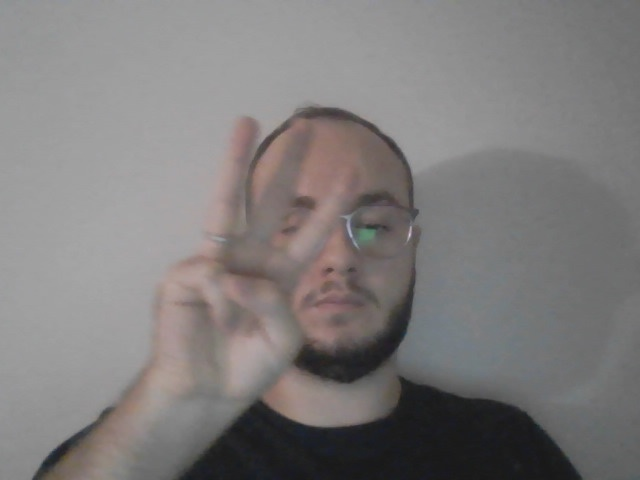Three: (154, 114, 361, 410)
